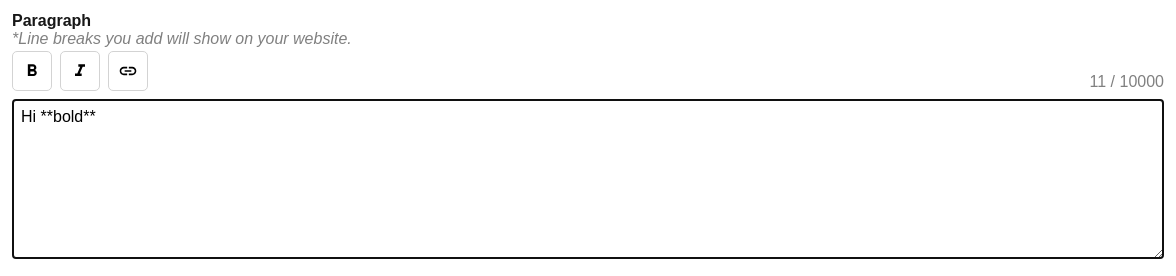
Scenario: ParagraphField formatting › goes back into bold, without adding markers, from just after its closing **
Click the button named "Bold text in paragraph 1".
click(32, 71)  # box [12,51,52,91]
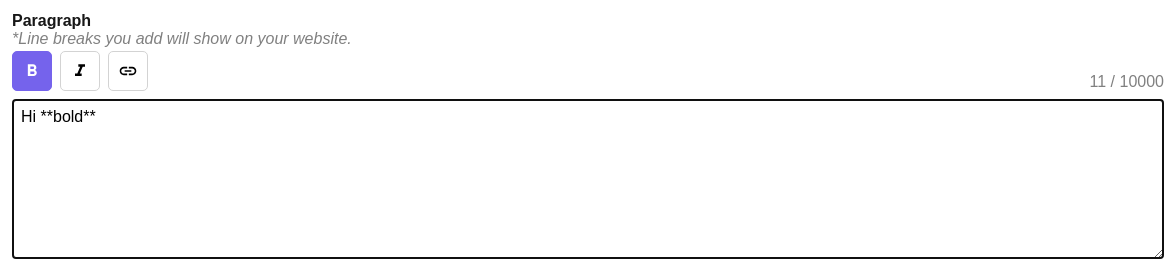
Type keys "er"
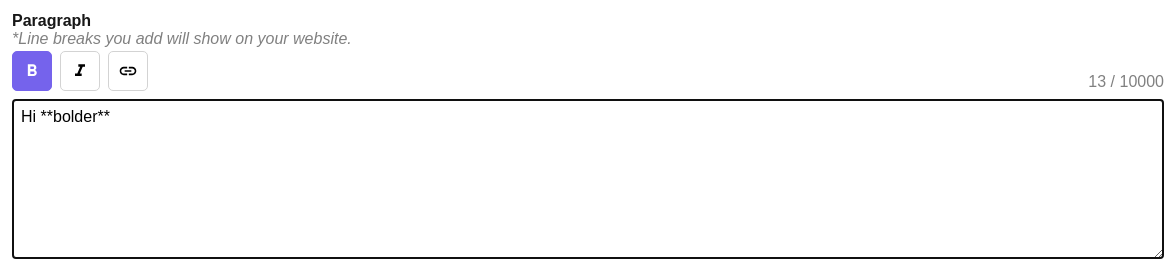
Expected: the text box labelled "Paragraph" holds "Hi **bolder**", [12,99,1164,259]
